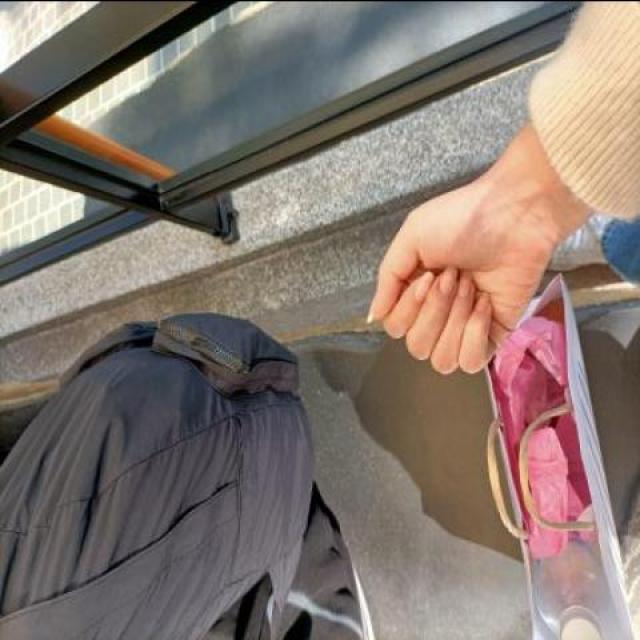fist: (364, 170, 564, 387)
